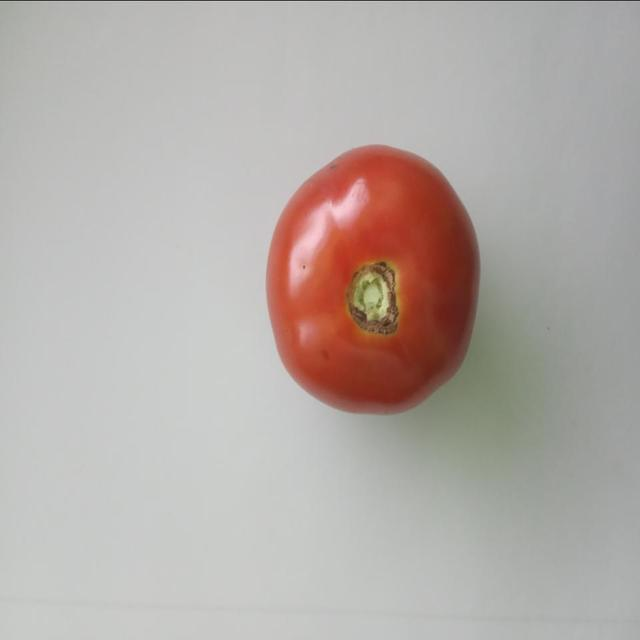Healthy Fruit: (172, 85, 327, 284)
